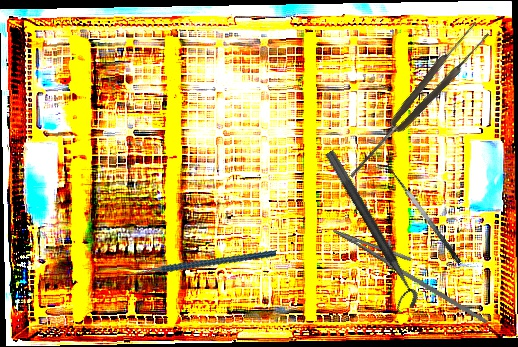Chopper: (122, 222, 277, 313)
Fixation Ring: (311, 149, 423, 315)
Needle Holder: (323, 216, 503, 325)
Spatula Surgical: (377, 159, 463, 271)
Tissue Forceps: (340, 20, 493, 184)
